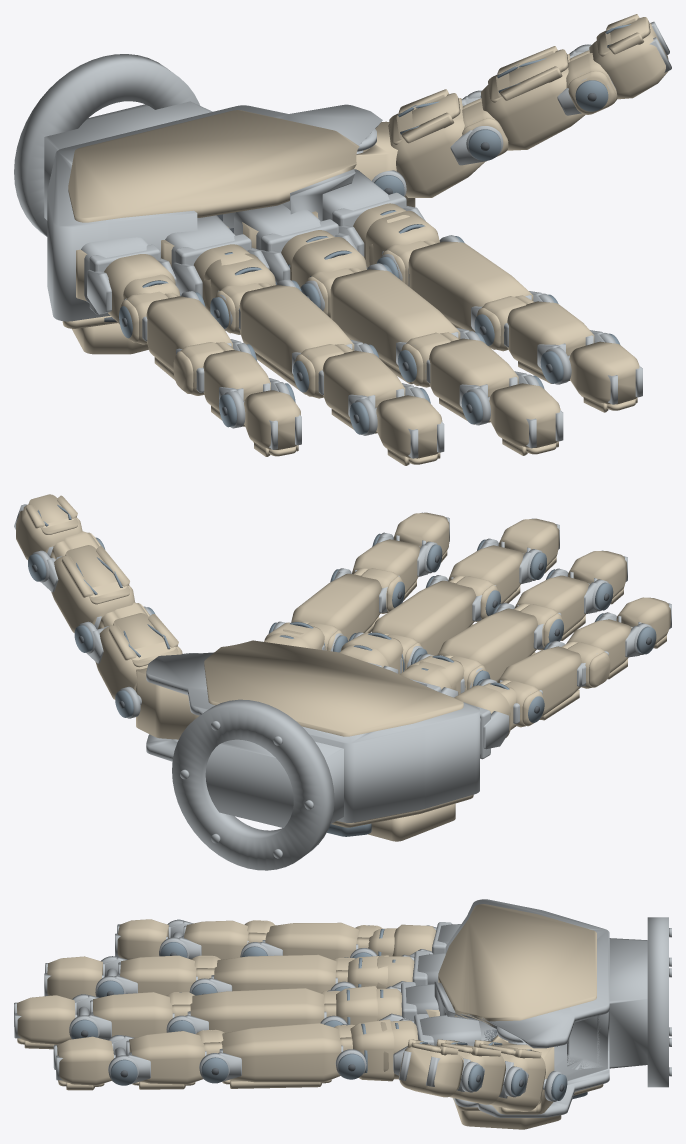
File: orion16.glb
3 renders of one model, top to bottom at view 1: azimuth 30°, elevation 25°; view 2: azimuth 150°, elevation 25°; view 3: azimuth 270°, elevation 25°, orthographic. The views are drawn at different scales.
Visible parts, largest first — view 1: visual__central_palm__0, visual__central_palm__1, visual__middle_proximal__0, visual__thumb_proximal__0, visual__ring_proximal__0, visual__index_proximal__0, visual__thumb_metacarpal__0, visual__little_proximal__0, visual__thumb_distal__0, visual__middle_middle__0, visual__middle_distal__0, visual__index_middle__0 (+26 smaller); view 2: visual__central_palm__0, visual__central_palm__1, visual__thumb_proximal__0, visual__middle_proximal__0, visual__ring_proximal__0, visual__thumb_metacarpal__0, visual__index_proximal__0, visual__little_proximal__0, visual__thumb_distal__0, visual__thumb_oppose_link__1, visual__middle_middle__0, visual__ring_middle__0 (+18 smaller); view 3: visual__central_palm__0, visual__central_palm__1, visual__index_proximal__0, visual__middle_proximal__0, visual__ring_proximal__0, visual__index_middle__0, visual__little_proximal__0, visual__middle_middle__0, visual__middle_distal__0, visual__index_distal__0, visual__thumb_distal__0, visual__ring_middle__0 (+36 smaller).
Boxes of the visible parts, x1,y1,x2,y2 form: visual__central_palm__0: (14,54,389,321); visual__central_palm__1: (62,110,359,354); visual__middle_proximal__0: (330,269,460,387); visual__thumb_proximal__0: (481,46,617,150); visual__ring_proximal__0: (239,285,354,398); visual__index_proximal__0: (408,241,534,351); visual__thumb_metacarpal__0: (388,89,508,197); visual__little_proximal__0: (146,296,234,395); visual__thumb_distal__0: (589,14,668,99); visual__middle_middle__0: (429,338,518,424); visual__middle_distal__0: (489,383,560,455); visual__index_middle__0: (507,301,594,383); visual__central_palm__0: (146,652,481,870); visual__central_palm__1: (204,640,473,841); visual__thumb_proximal__0: (50,531,135,632); visual__middle_proximal__0: (372,576,497,655); visual__ring_proximal__0: (438,603,562,682); visual__thumb_metacarpal__0: (95,602,182,699); visual__index_proximal__0: (291,568,402,641); visual__little_proximal__0: (498,641,610,720); visual__thumb_distal__0: (16,494,82,559); visual__thumb_oppose_link__1: (136,668,199,739); visual__middle_middle__0: (448,545,523,603); visual__ring_middle__0: (515,575,589,640); visual__central_palm__0: (405,899,671,1117); visual__central_palm__1: (425,904,603,1129); visual__index_proximal__0: (196,1023,341,1088); visual__middle_proximal__0: (166,988,324,1032); visual__ring_proximal__0: (191,954,336,992); visual__index_middle__0: (129,1031,204,1089); visual__little_proximal__0: (244,920,358,959); visual__middle_middle__0: (93,992,172,1037); visual__middle_distal__0: (17,995,75,1049); visual__index_distal__0: (57,1036,113,1090); visual__thumb_distal__0: (399,1039,463,1097); visual__ring_middle__0: (120,955,196,995).
Bounding box in the file's own units: 0.187 × 0.0698 × 0.2166.
